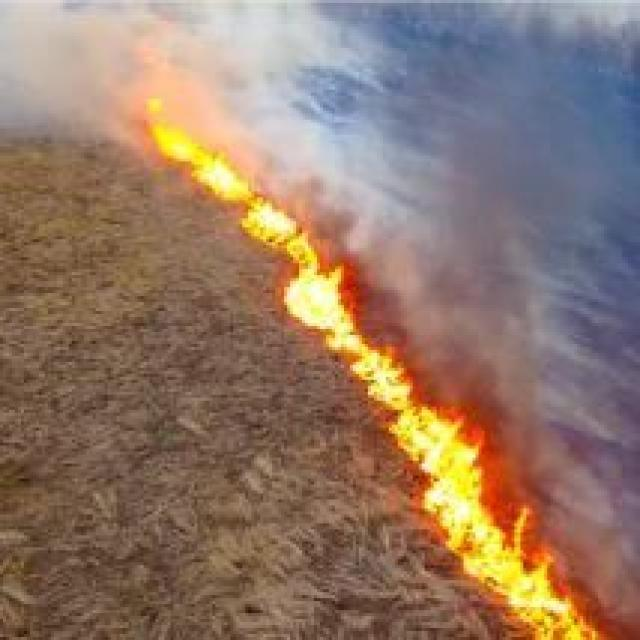Fire: (428, 490, 574, 640), (356, 356, 478, 488), (248, 205, 354, 342), (143, 116, 241, 203)
Smoke: (402, 0, 636, 321), (18, 0, 371, 167), (480, 328, 640, 514)
